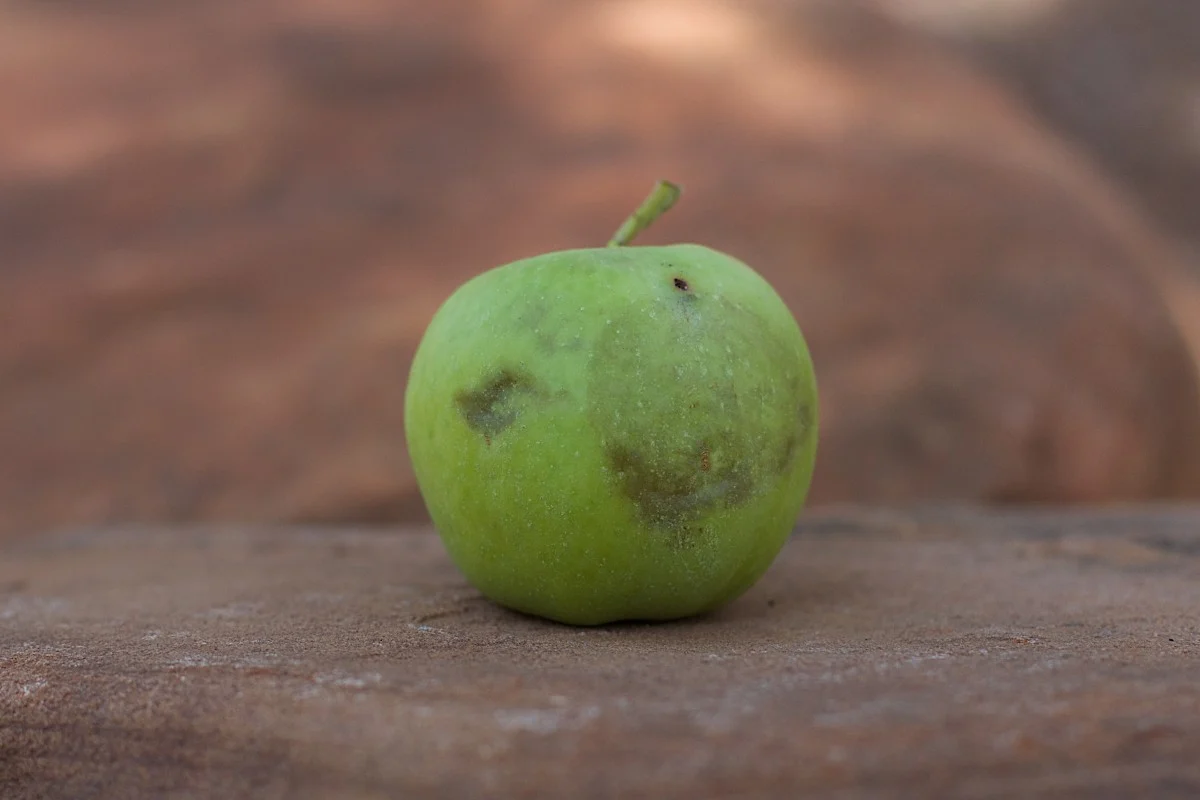mango: (329, 146, 955, 687)
